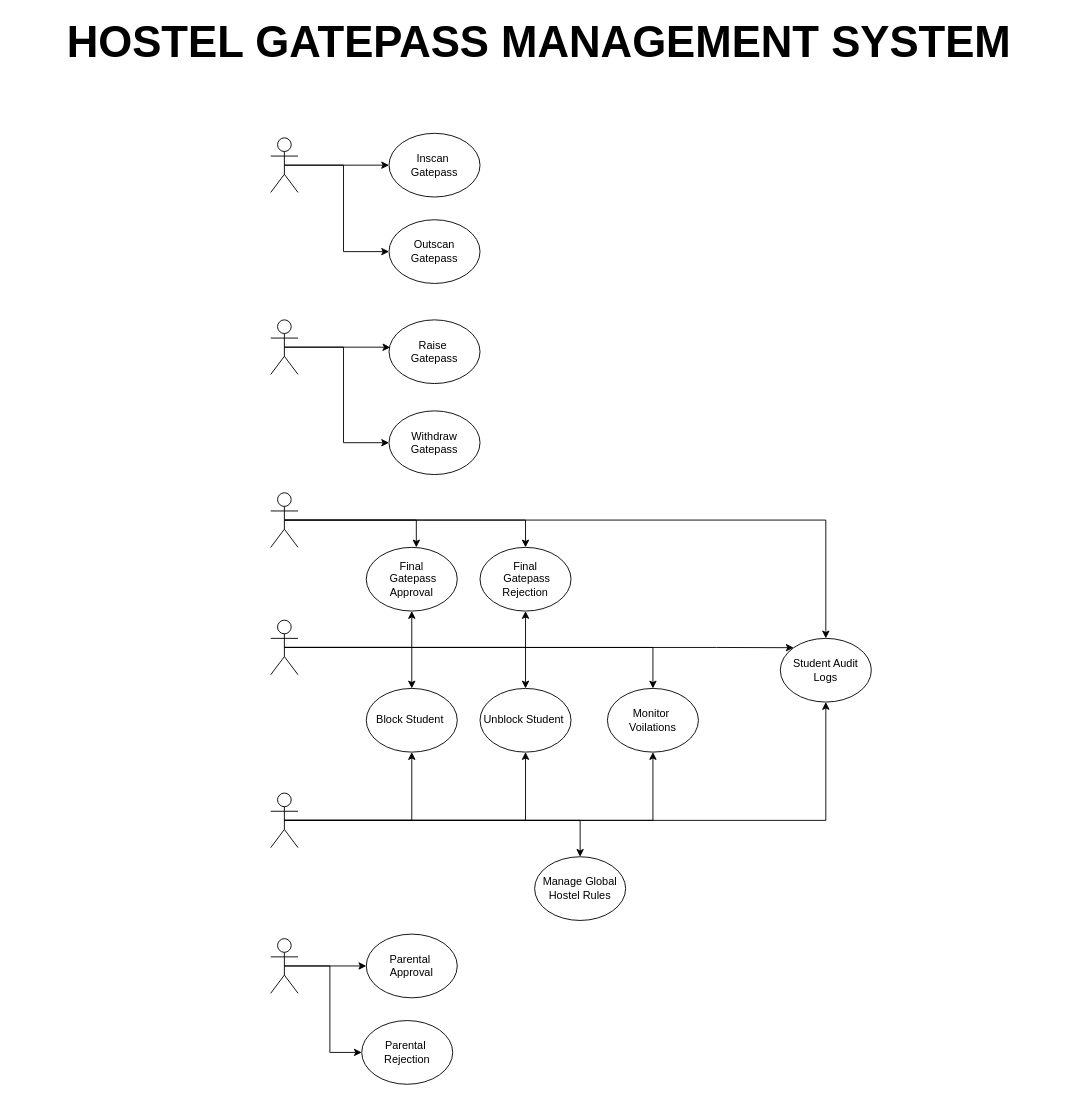
The diagram is 1077 pixels wide and 1100 high, and some of its shapes have lost their labels. Here are the shapes that lost their labels. From the top down, the box of each, then its label:
(270, 137, 298, 192): Security
(270, 319, 298, 374): Student
(270, 492, 298, 547): Caretaker
(270, 619, 298, 675): Warden
(270, 792, 298, 848): Chief Warden
(270, 938, 298, 993): Parent
